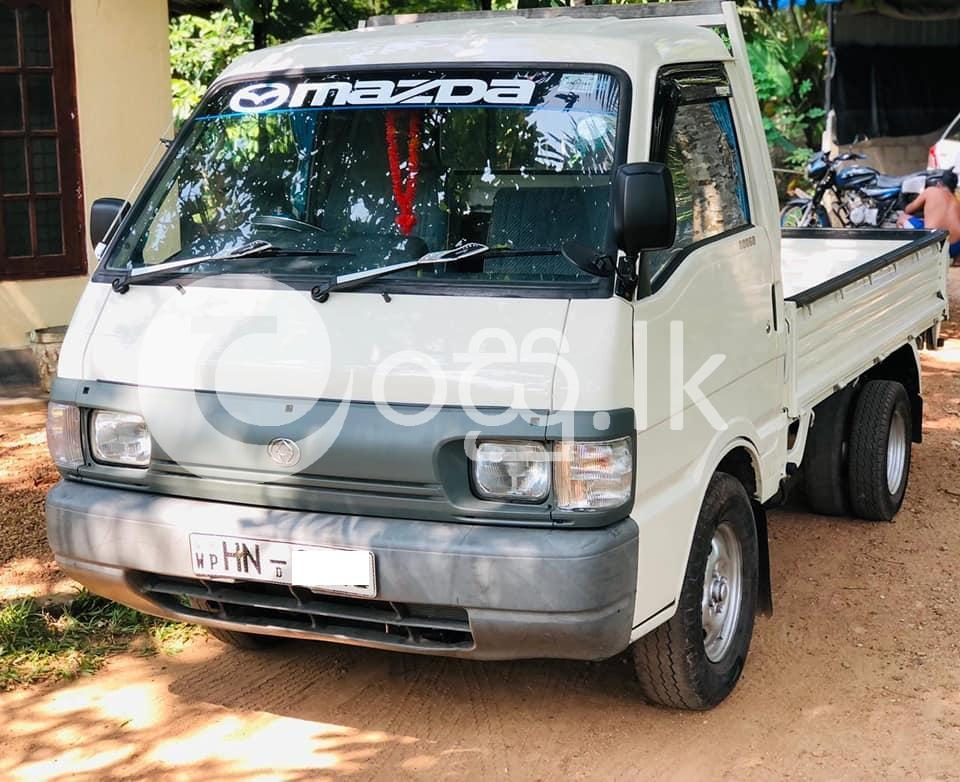motorbike: (779, 131, 956, 234)
truck: (44, 1, 949, 712)
